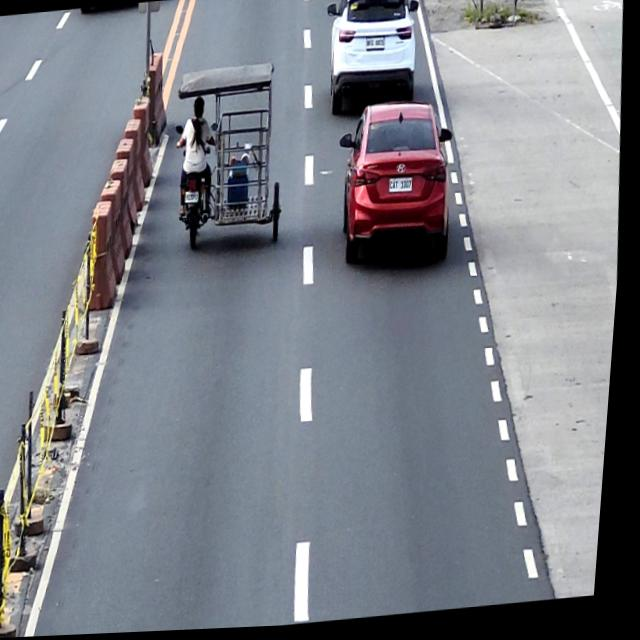Car: (333, 100, 464, 272), (319, 0, 426, 119)
License-Plate: (391, 178, 417, 198), (365, 37, 388, 58), (186, 191, 204, 207)
Tricycle: (168, 62, 296, 255)
